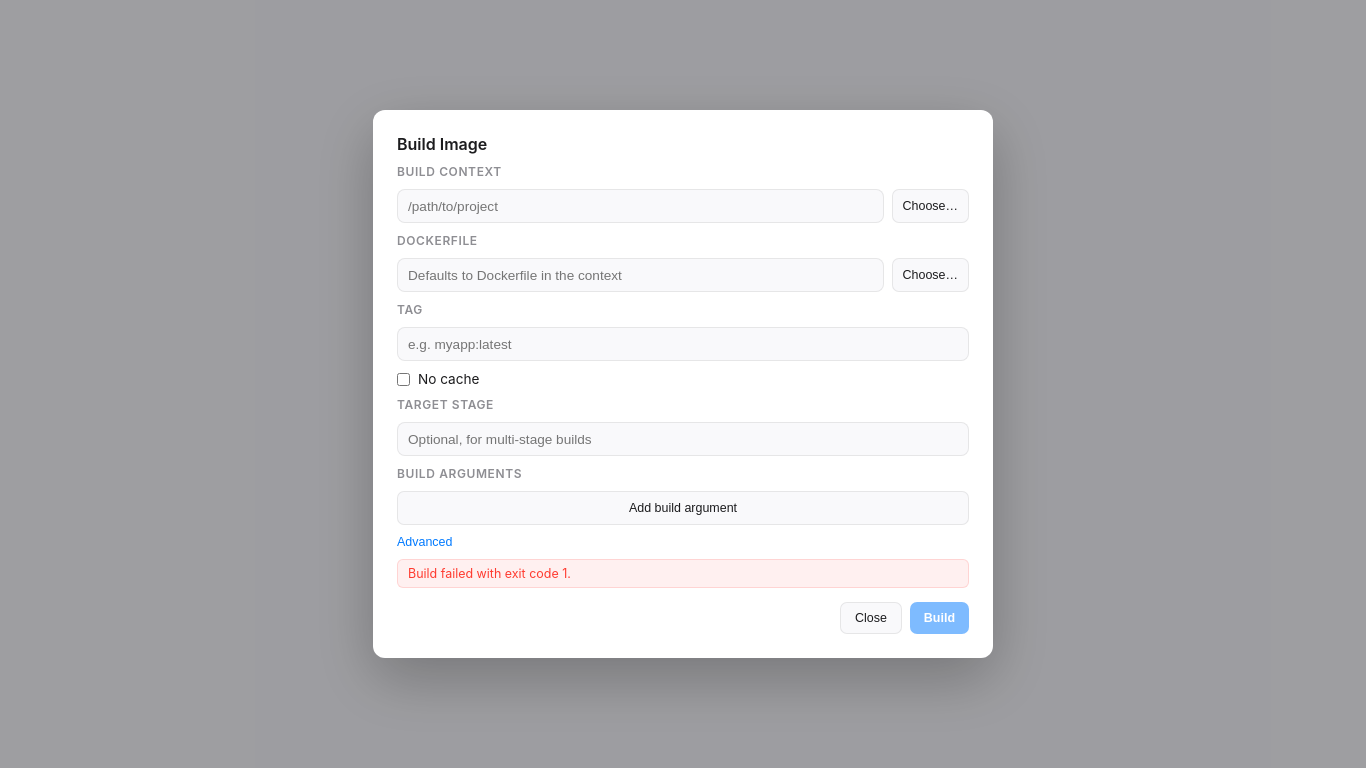
Test: BuildModal › drops a failed outcome under a start error too
Expected: the text "Build failed with exit code 1." is shown, [397,559,969,588]
Step 1. Type "/src/app" into the field labelled "Build context" → (640, 206), box [397,189,884,223]
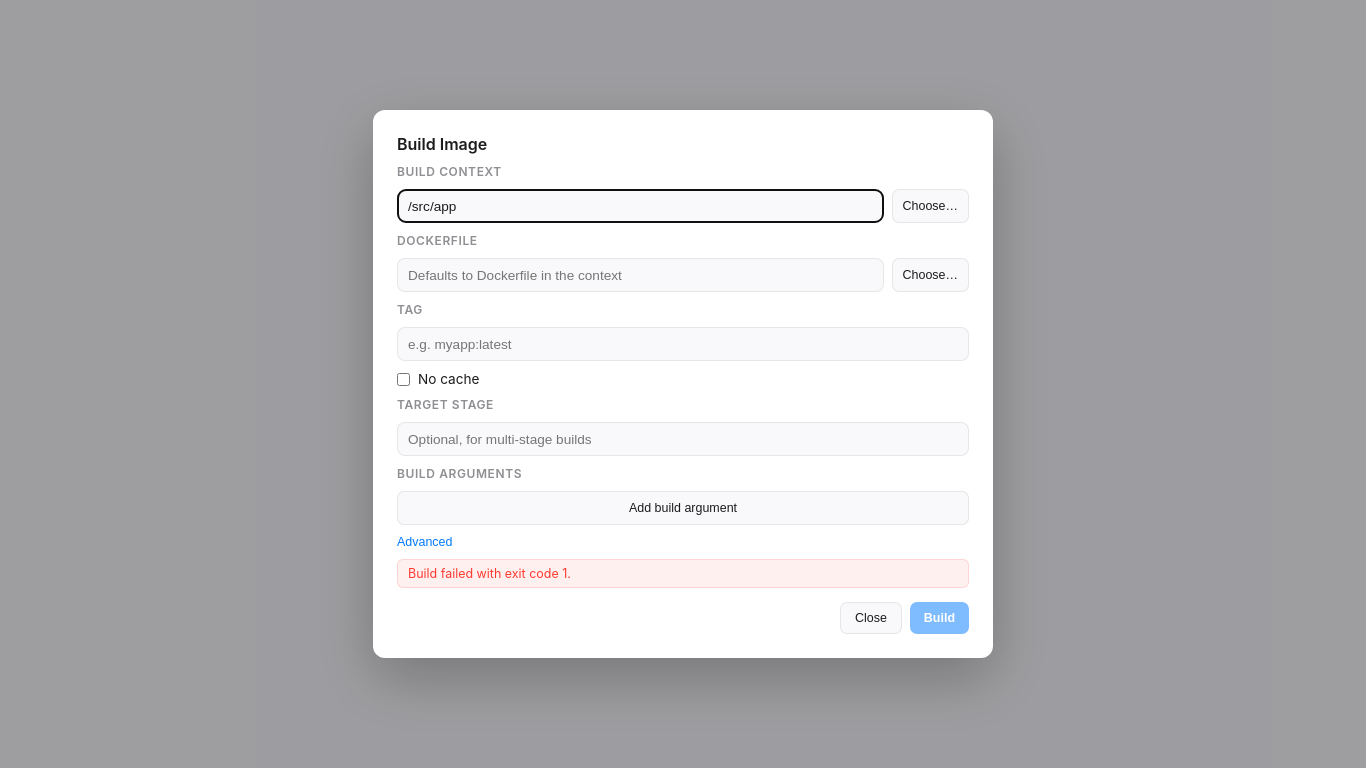
Step 2. Type "app:latest" into the field labelled "Tag" → (683, 344), box [397,327,969,361]
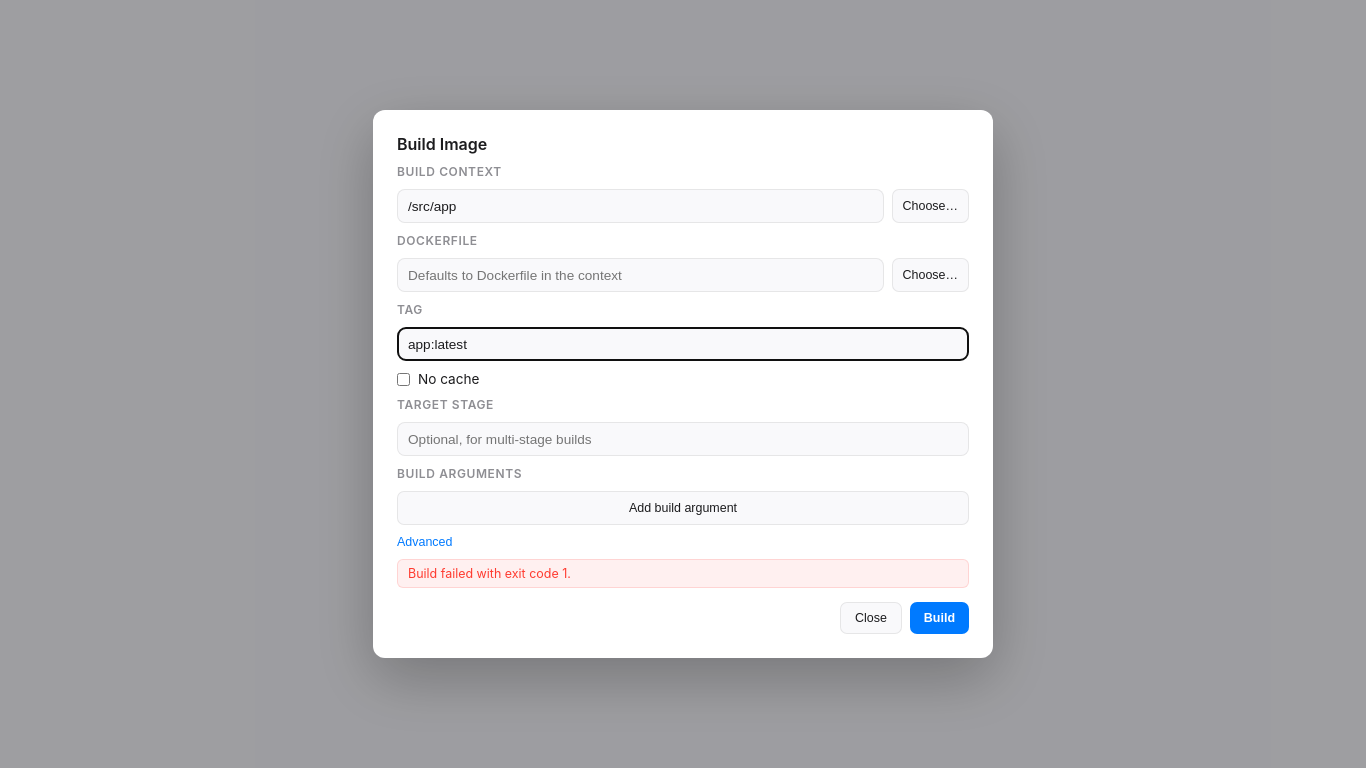
Step 3. Click the button "Build" → click(939, 618), box [910,602,969,634]
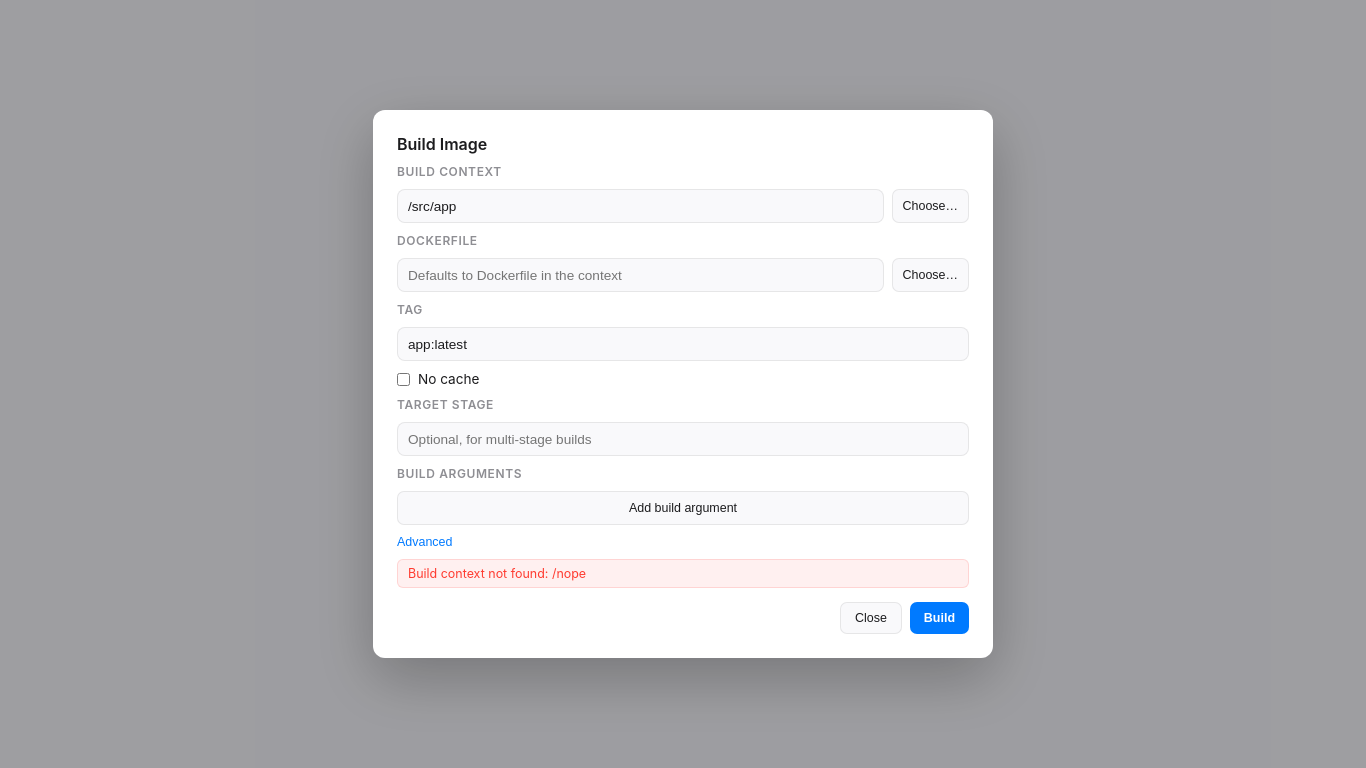
Expected: the text "Build context not found: /nope" is shown, [397,559,969,588]
Expected: the text "exit code 1" is gone
